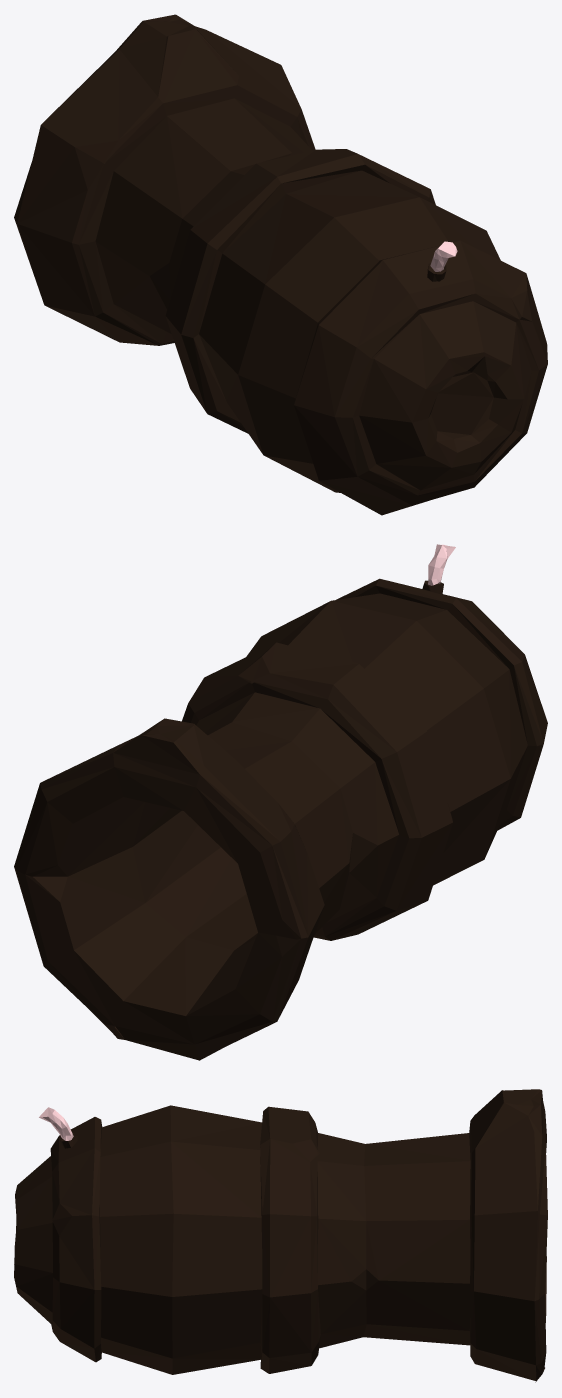
File: SFFA_Cannon.fbx
The picture shows the model from 3 angles, top to bottom: view 1: azimuth 30°, elevation 25°; view 2: azimuth 150°, elevation 25°; view 3: azimuth 270°, elevation 25°; orthographic projection. The views are drawn at different scales.
Parts seen in each view (by area): view 1: SFFA_Cannon; view 2: SFFA_Cannon; view 3: SFFA_Cannon.
Part boxes in pixels (box(x1,y1,x2,y2)): SFFA_Cannon: box(14, 14, 547, 515); SFFA_Cannon: box(14, 544, 547, 1060); SFFA_Cannon: box(14, 1089, 547, 1382).
Size of the model in its own units: 32.33 by 33.18 by 59.51.
